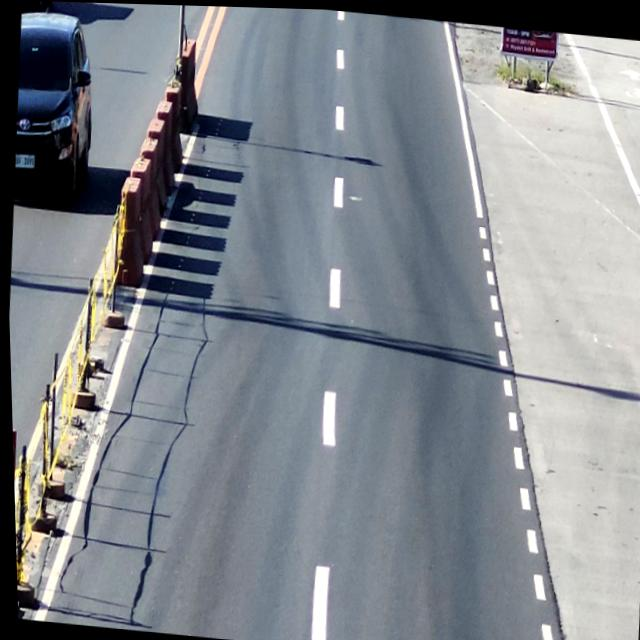License-Plate: (13, 154, 37, 174)
